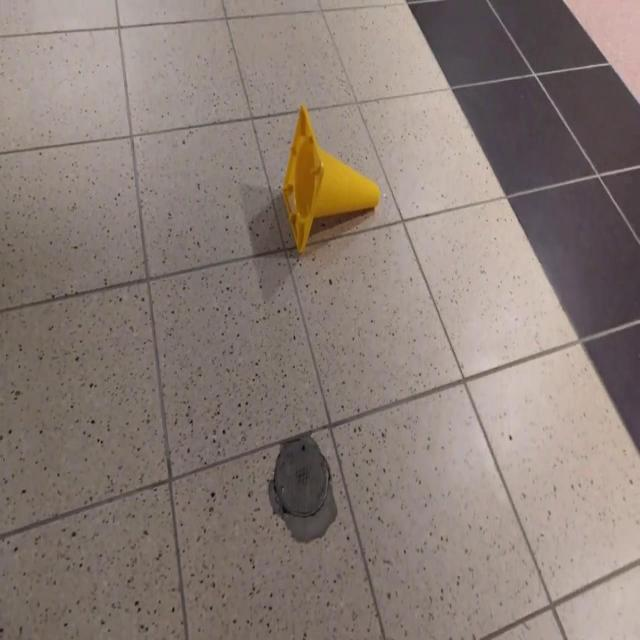frc_cone: (282, 104, 380, 258)
